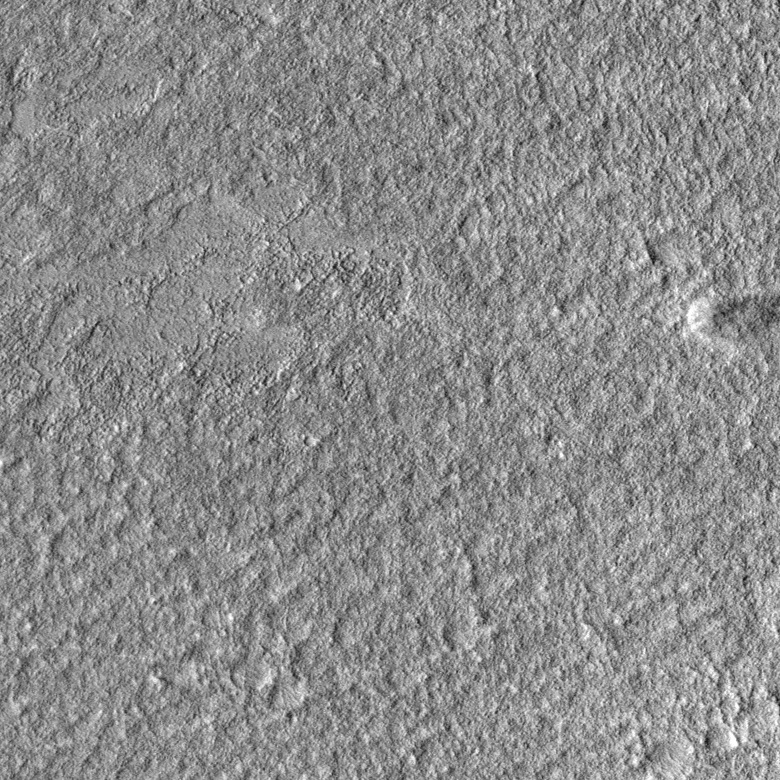dust_devil: (682, 287, 780, 352)
